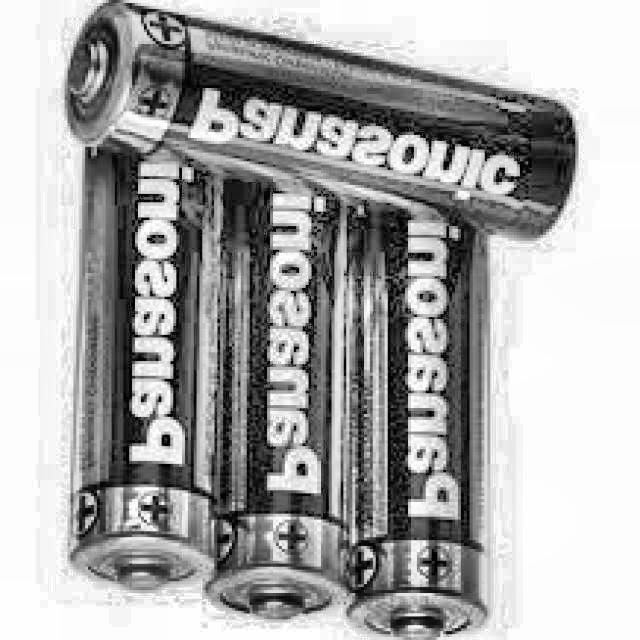battery: (66, 3, 579, 242), (68, 152, 229, 593), (203, 178, 358, 622), (346, 205, 493, 640)
